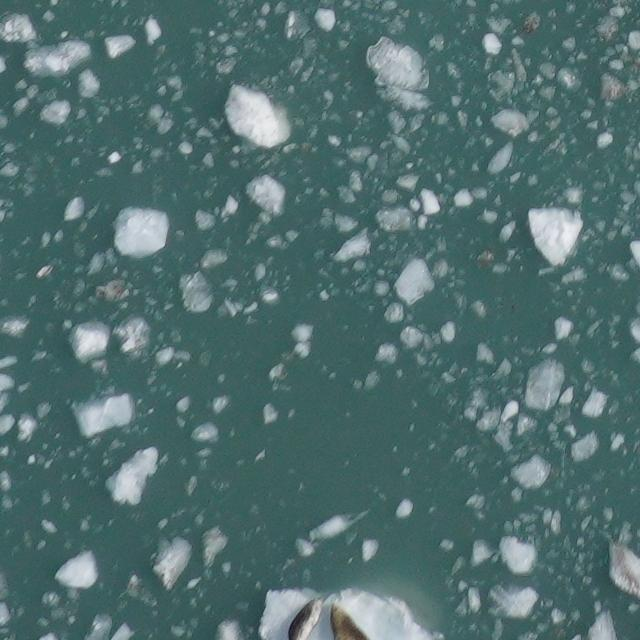seal: (283, 592, 330, 640)
